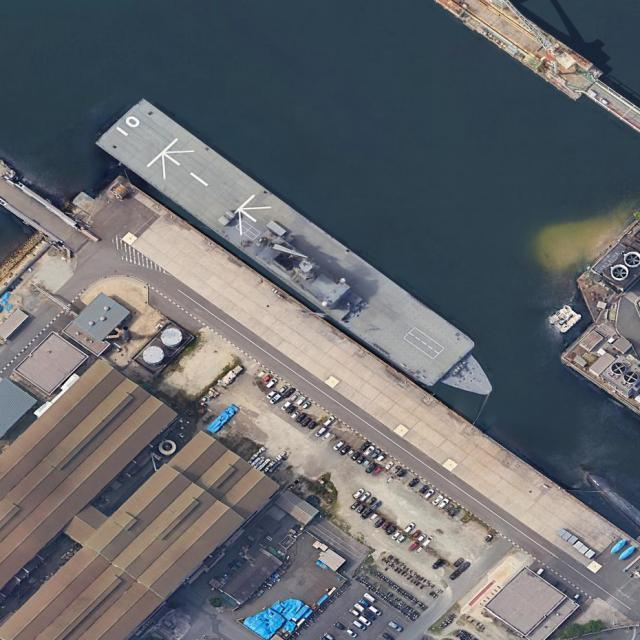Landing: (94, 89, 513, 425)
